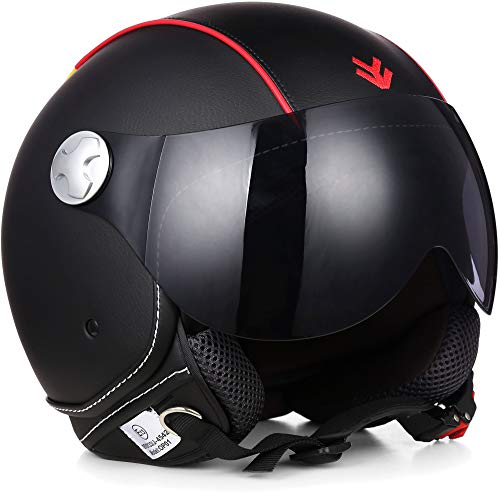with_helmet: (14, 2, 494, 460)
